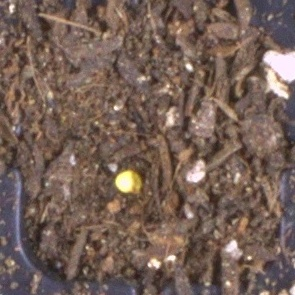chilli seed: (114, 169, 143, 194)
